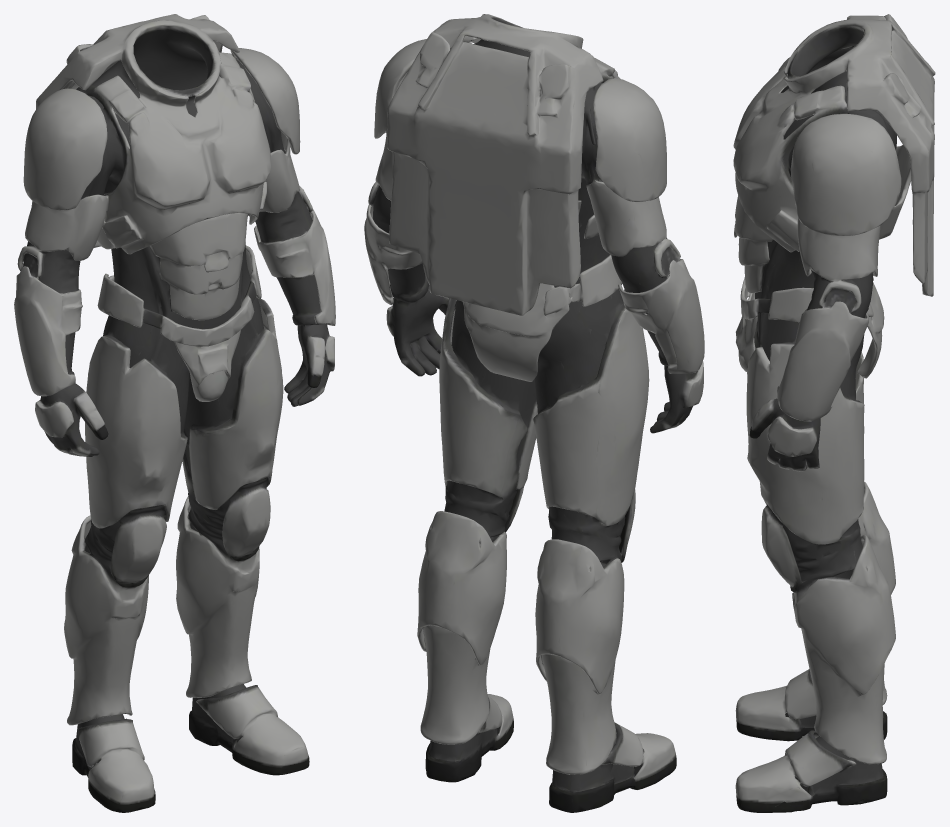
Rendered from RR_PulseArmor.glb.
The picture shows the model from 3 angles, left to right: view 1: azimuth 30°, elevation 25°; view 2: azimuth 150°, elevation 25°; view 3: azimuth 270°, elevation 25°; orthographic projection. The views are drawn at different scales.
Visible parts, largest first — view 1: world; view 2: world; view 3: world.
Part boxes in pixels (x1,y1,x2,y2): world: (14,14,335,812); world: (364,14,704,812); world: (733,14,935,812).
Size of the model in its own units: 0.4384 by 1 by 0.2499.
1 material, 1 textured.
